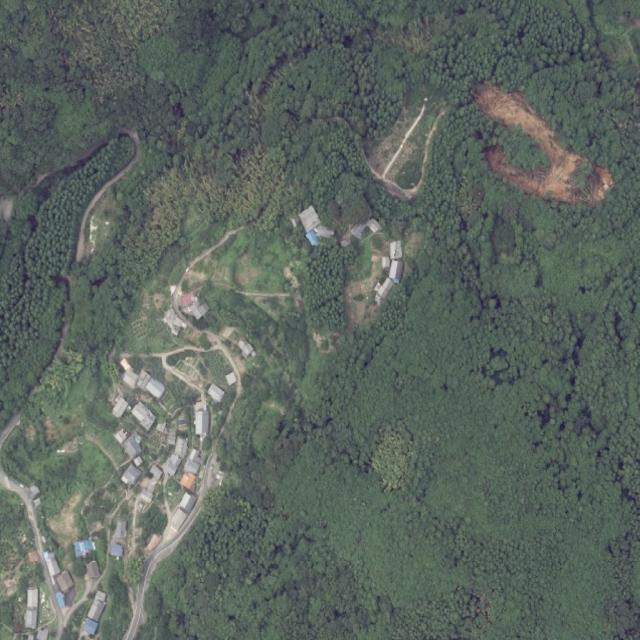landslide: (476, 83, 615, 206)
